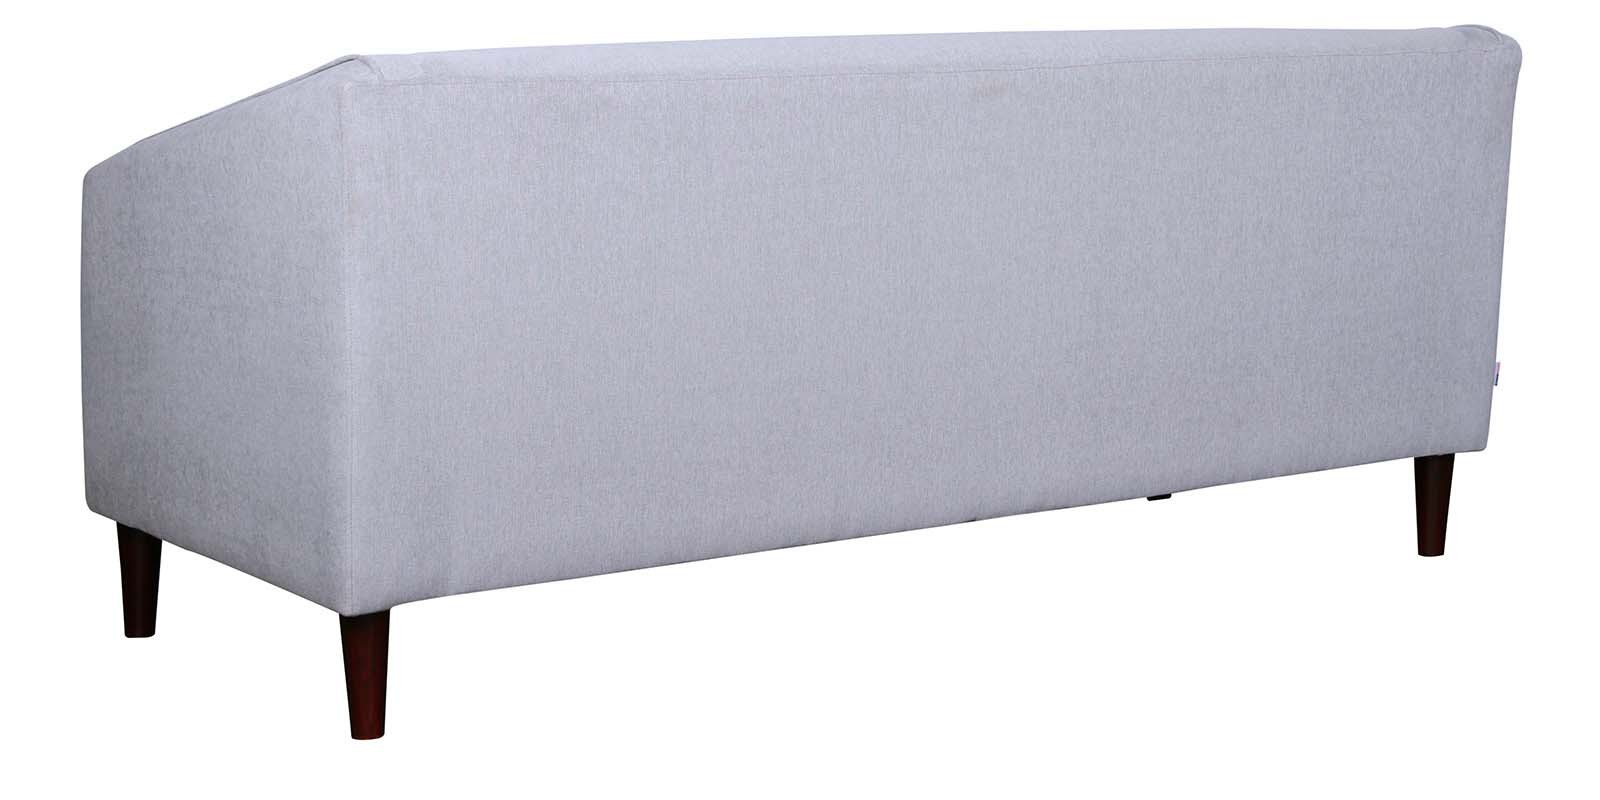Nina Three Seater Sofa in Ash Grey Colour by CasaCraft: (77, 21, 1524, 741)
